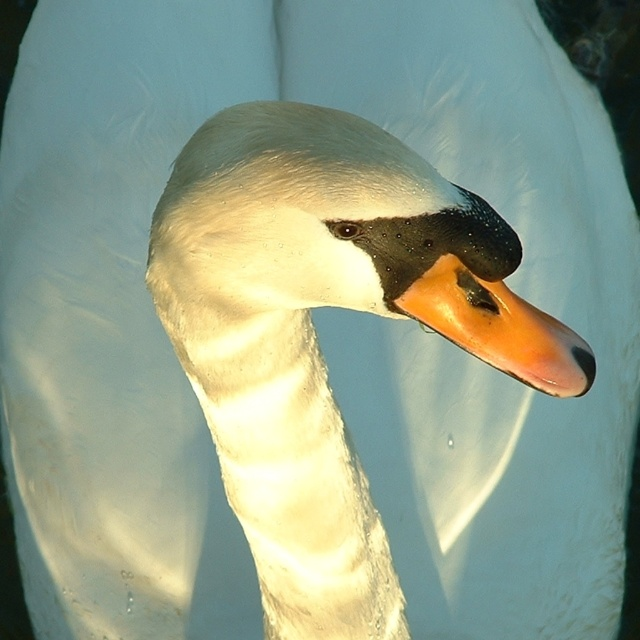Duck: (121, 85, 604, 559)
